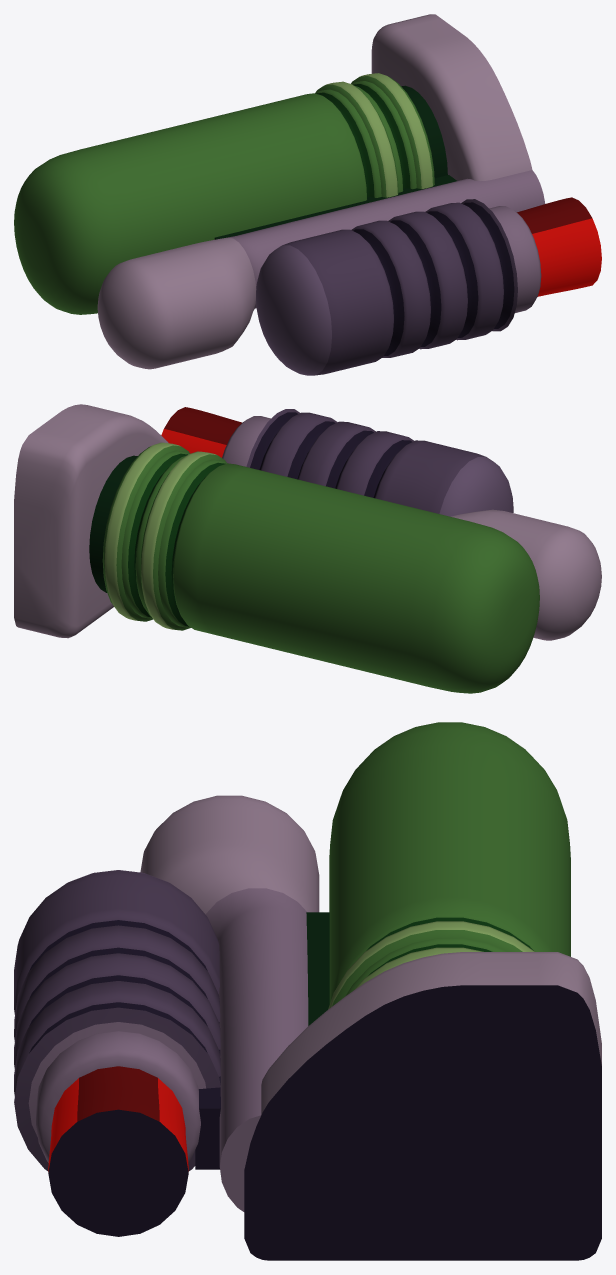
File: tank_pod_left.glb
3 views of the same model, one above another, from view 1: azimuth 30°, elevation 25°; view 2: azimuth 150°, elevation 25°; view 3: azimuth 270°, elevation 25° (orthographic). The views are drawn at different scales.
Visible parts, largest first — view 1: tank.001, coil.001, rail.001, block.001, core.001, web_tank.001; view 2: tank.001, block.001, coil.001, rail.001, core.001; view 3: block.001, tank.001, coil.001, rail.001, core.001, web_tank.001, web_coil.001.
Part boxes in pixels (bbox=[...]): tank.001: bbox=[14, 73, 447, 314]; coil.001: bbox=[256, 199, 541, 375]; rail.001: bbox=[97, 170, 545, 369]; block.001: bbox=[371, 14, 532, 180]; core.001: bbox=[517, 197, 601, 296]; web_tank.001: bbox=[214, 175, 456, 239]; tank.001: bbox=[89, 442, 539, 693]; block.001: bbox=[14, 404, 168, 638]; coil.001: bbox=[222, 409, 513, 516]; rail.001: bbox=[451, 509, 601, 640]; core.001: bbox=[161, 407, 241, 457]; block.001: bbox=[244, 952, 601, 1260]; tank.001: bbox=[328, 722, 570, 1009]; coil.001: bbox=[14, 870, 220, 1171]; rail.001: bbox=[140, 795, 319, 1211]; core.001: bbox=[48, 1066, 188, 1236]; web_tank.001: bbox=[306, 912, 329, 1025]; web_coil.001: bbox=[195, 1022, 220, 1169].
Bounding box in the file's own units: 23.65 × 9.55 × 18.
